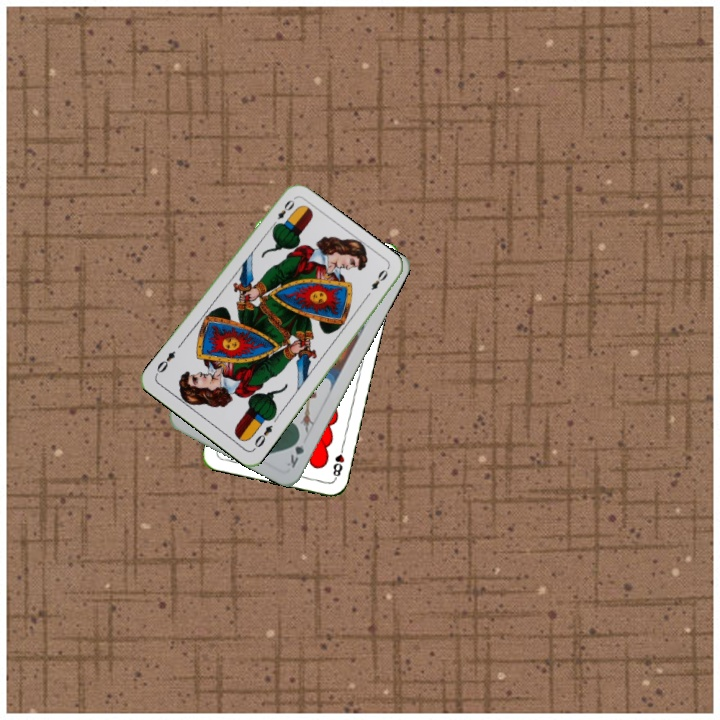EO: (268, 195, 297, 230), (250, 421, 275, 450)
GK: (283, 431, 307, 471)
H8: (329, 441, 347, 482)
